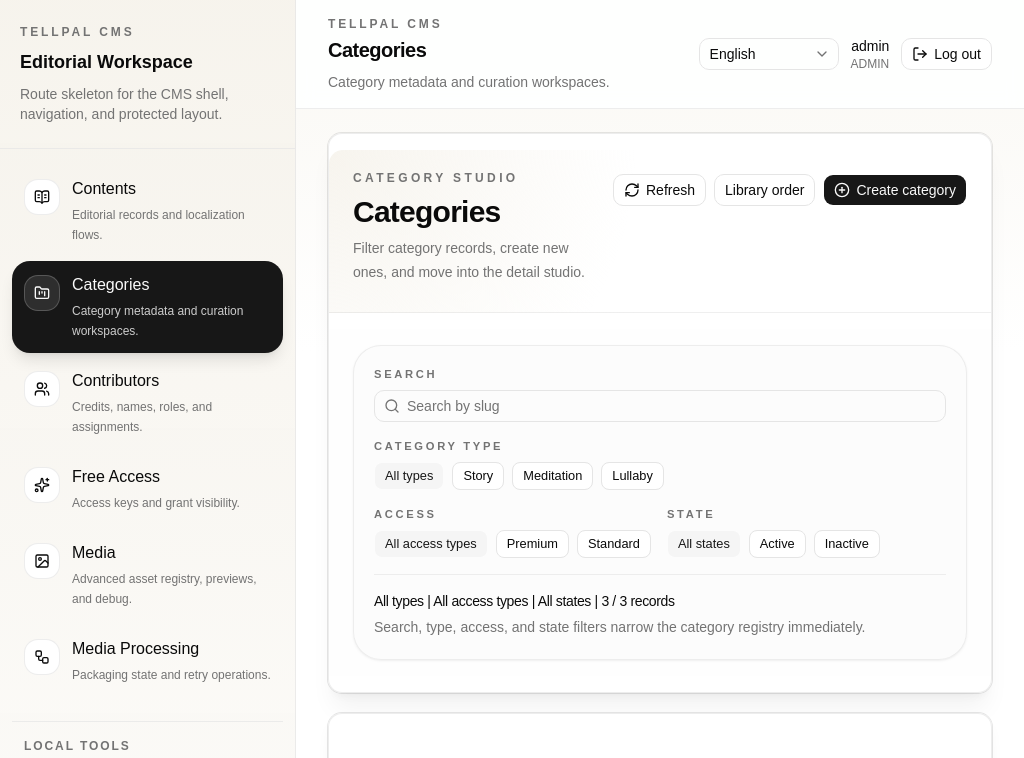
Test: CMS router auth flow › filters category registry rows by type, access, and state
Expected: the heading "Categories" below "Category Studio" is shown, top-left (353, 195), bottom-right (501, 228)
Step 1. Click the button "Meditation" → (553, 476), box top-left (512, 462), bottom-right (593, 490)
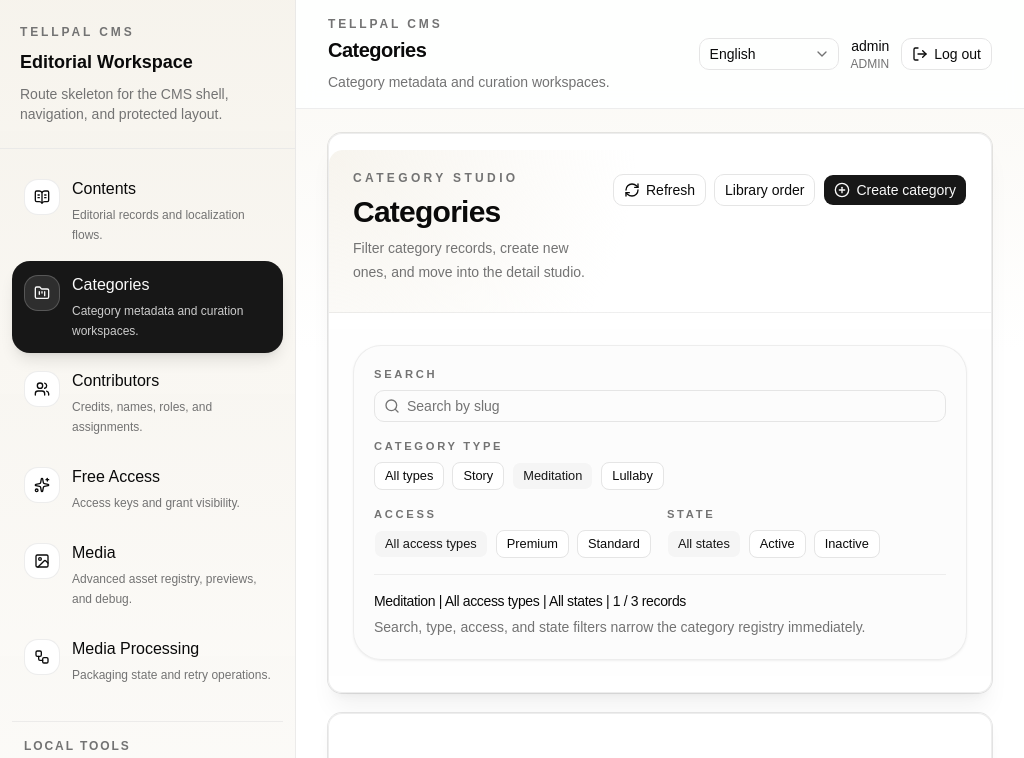
Step 2. Click the button "Premium" → (532, 544), box top-left (496, 530), bottom-right (569, 558)
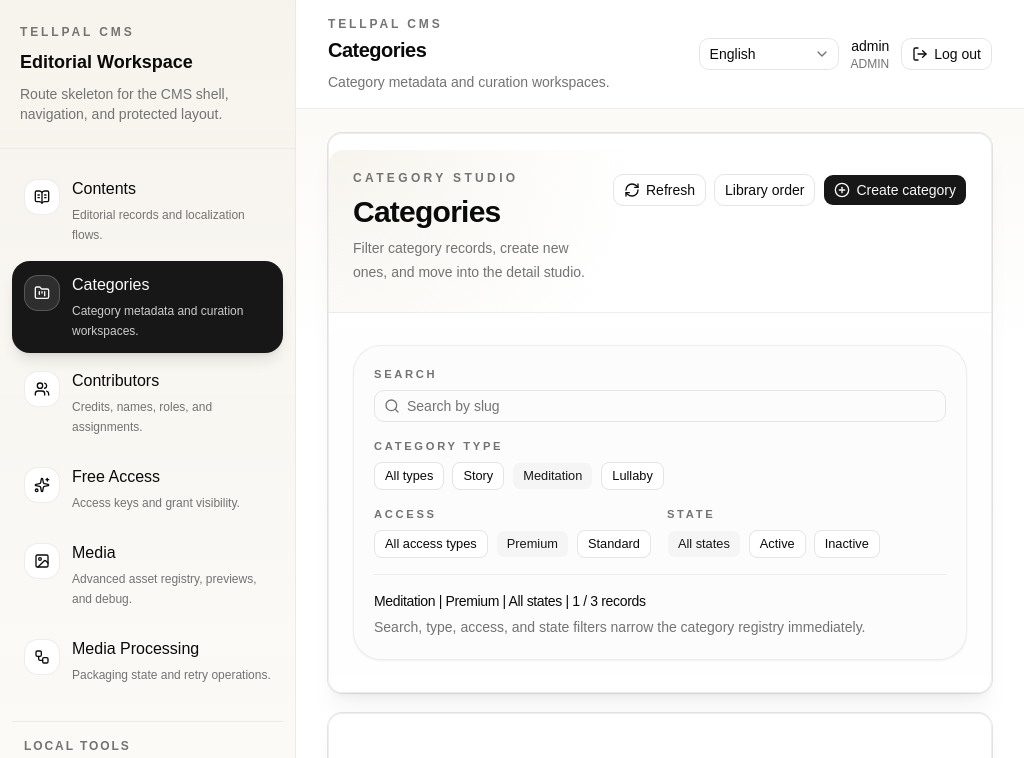
Expected: the text "Meditation | Premium | All states | 1 / 3 records" is shown, top-left (374, 593), bottom-right (646, 609)
Step 3. Click the button "Inactive" → (847, 544), box top-left (814, 530), bottom-right (880, 558)
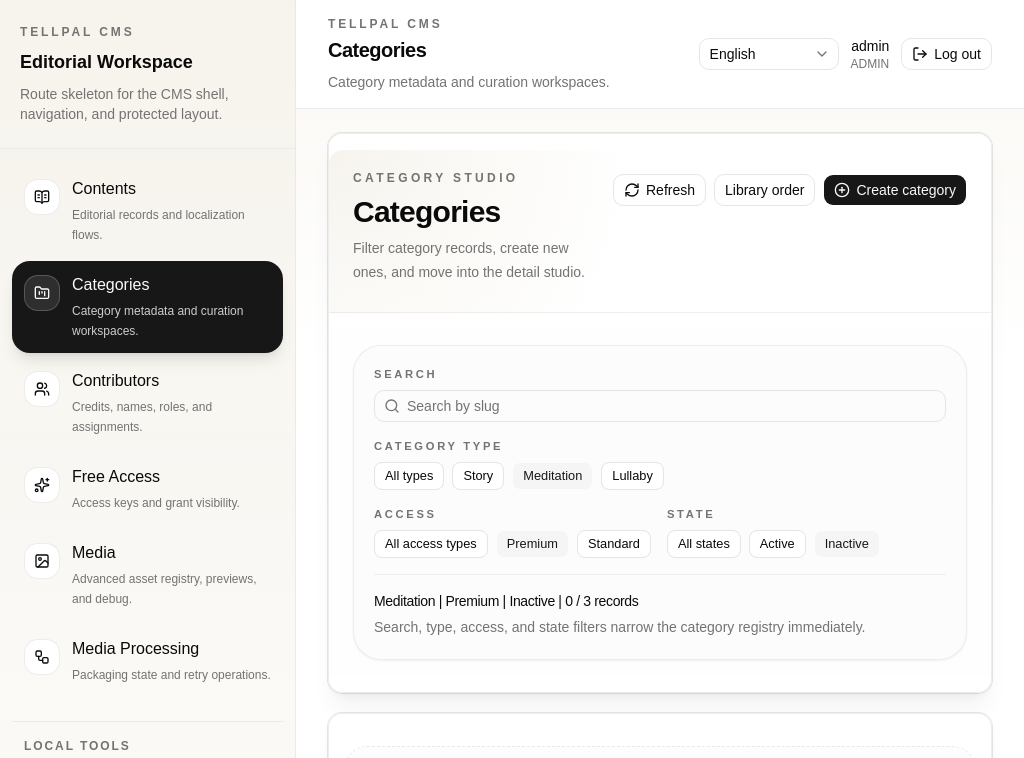
Expected: the text "Meditation | Premium | Inactive | 0 / 3 records" is shown, top-left (374, 593), bottom-right (638, 609)
